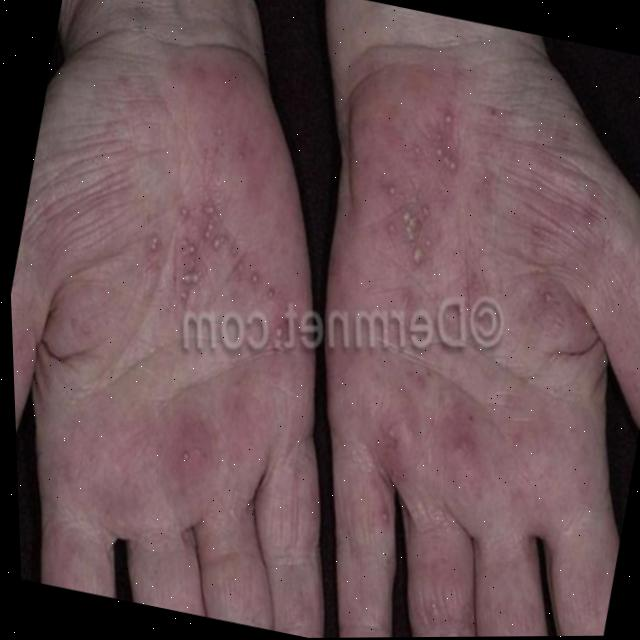Eczema: (290, 62, 620, 536), (75, 103, 334, 458)
